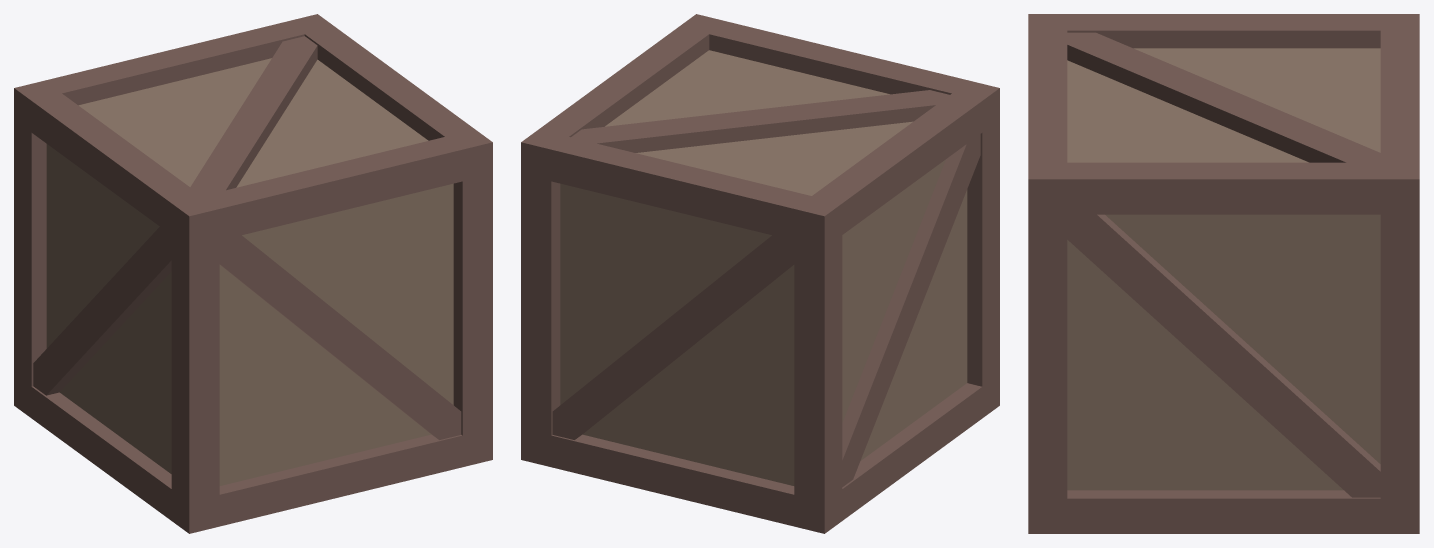
Rendered from crate.glb.
3 views of the same model, side by side, from view 1: azimuth 30°, elevation 25°; view 2: azimuth 150°, elevation 25°; view 3: azimuth 270°, elevation 25° (orthographic). The views are drawn at different scales.
Parts seen in each view (by area): view 1: crate-col; view 2: crate-col; view 3: crate-col.
Boxes of the visible parts, x1,y1,x2,y2 form: crate-col: (14, 14, 492, 533); crate-col: (521, 14, 999, 533); crate-col: (1028, 14, 1419, 533).
Bounding box in the file's own units: 3 × 3 × 3.
Materials: 1 (1 with a texture image).
